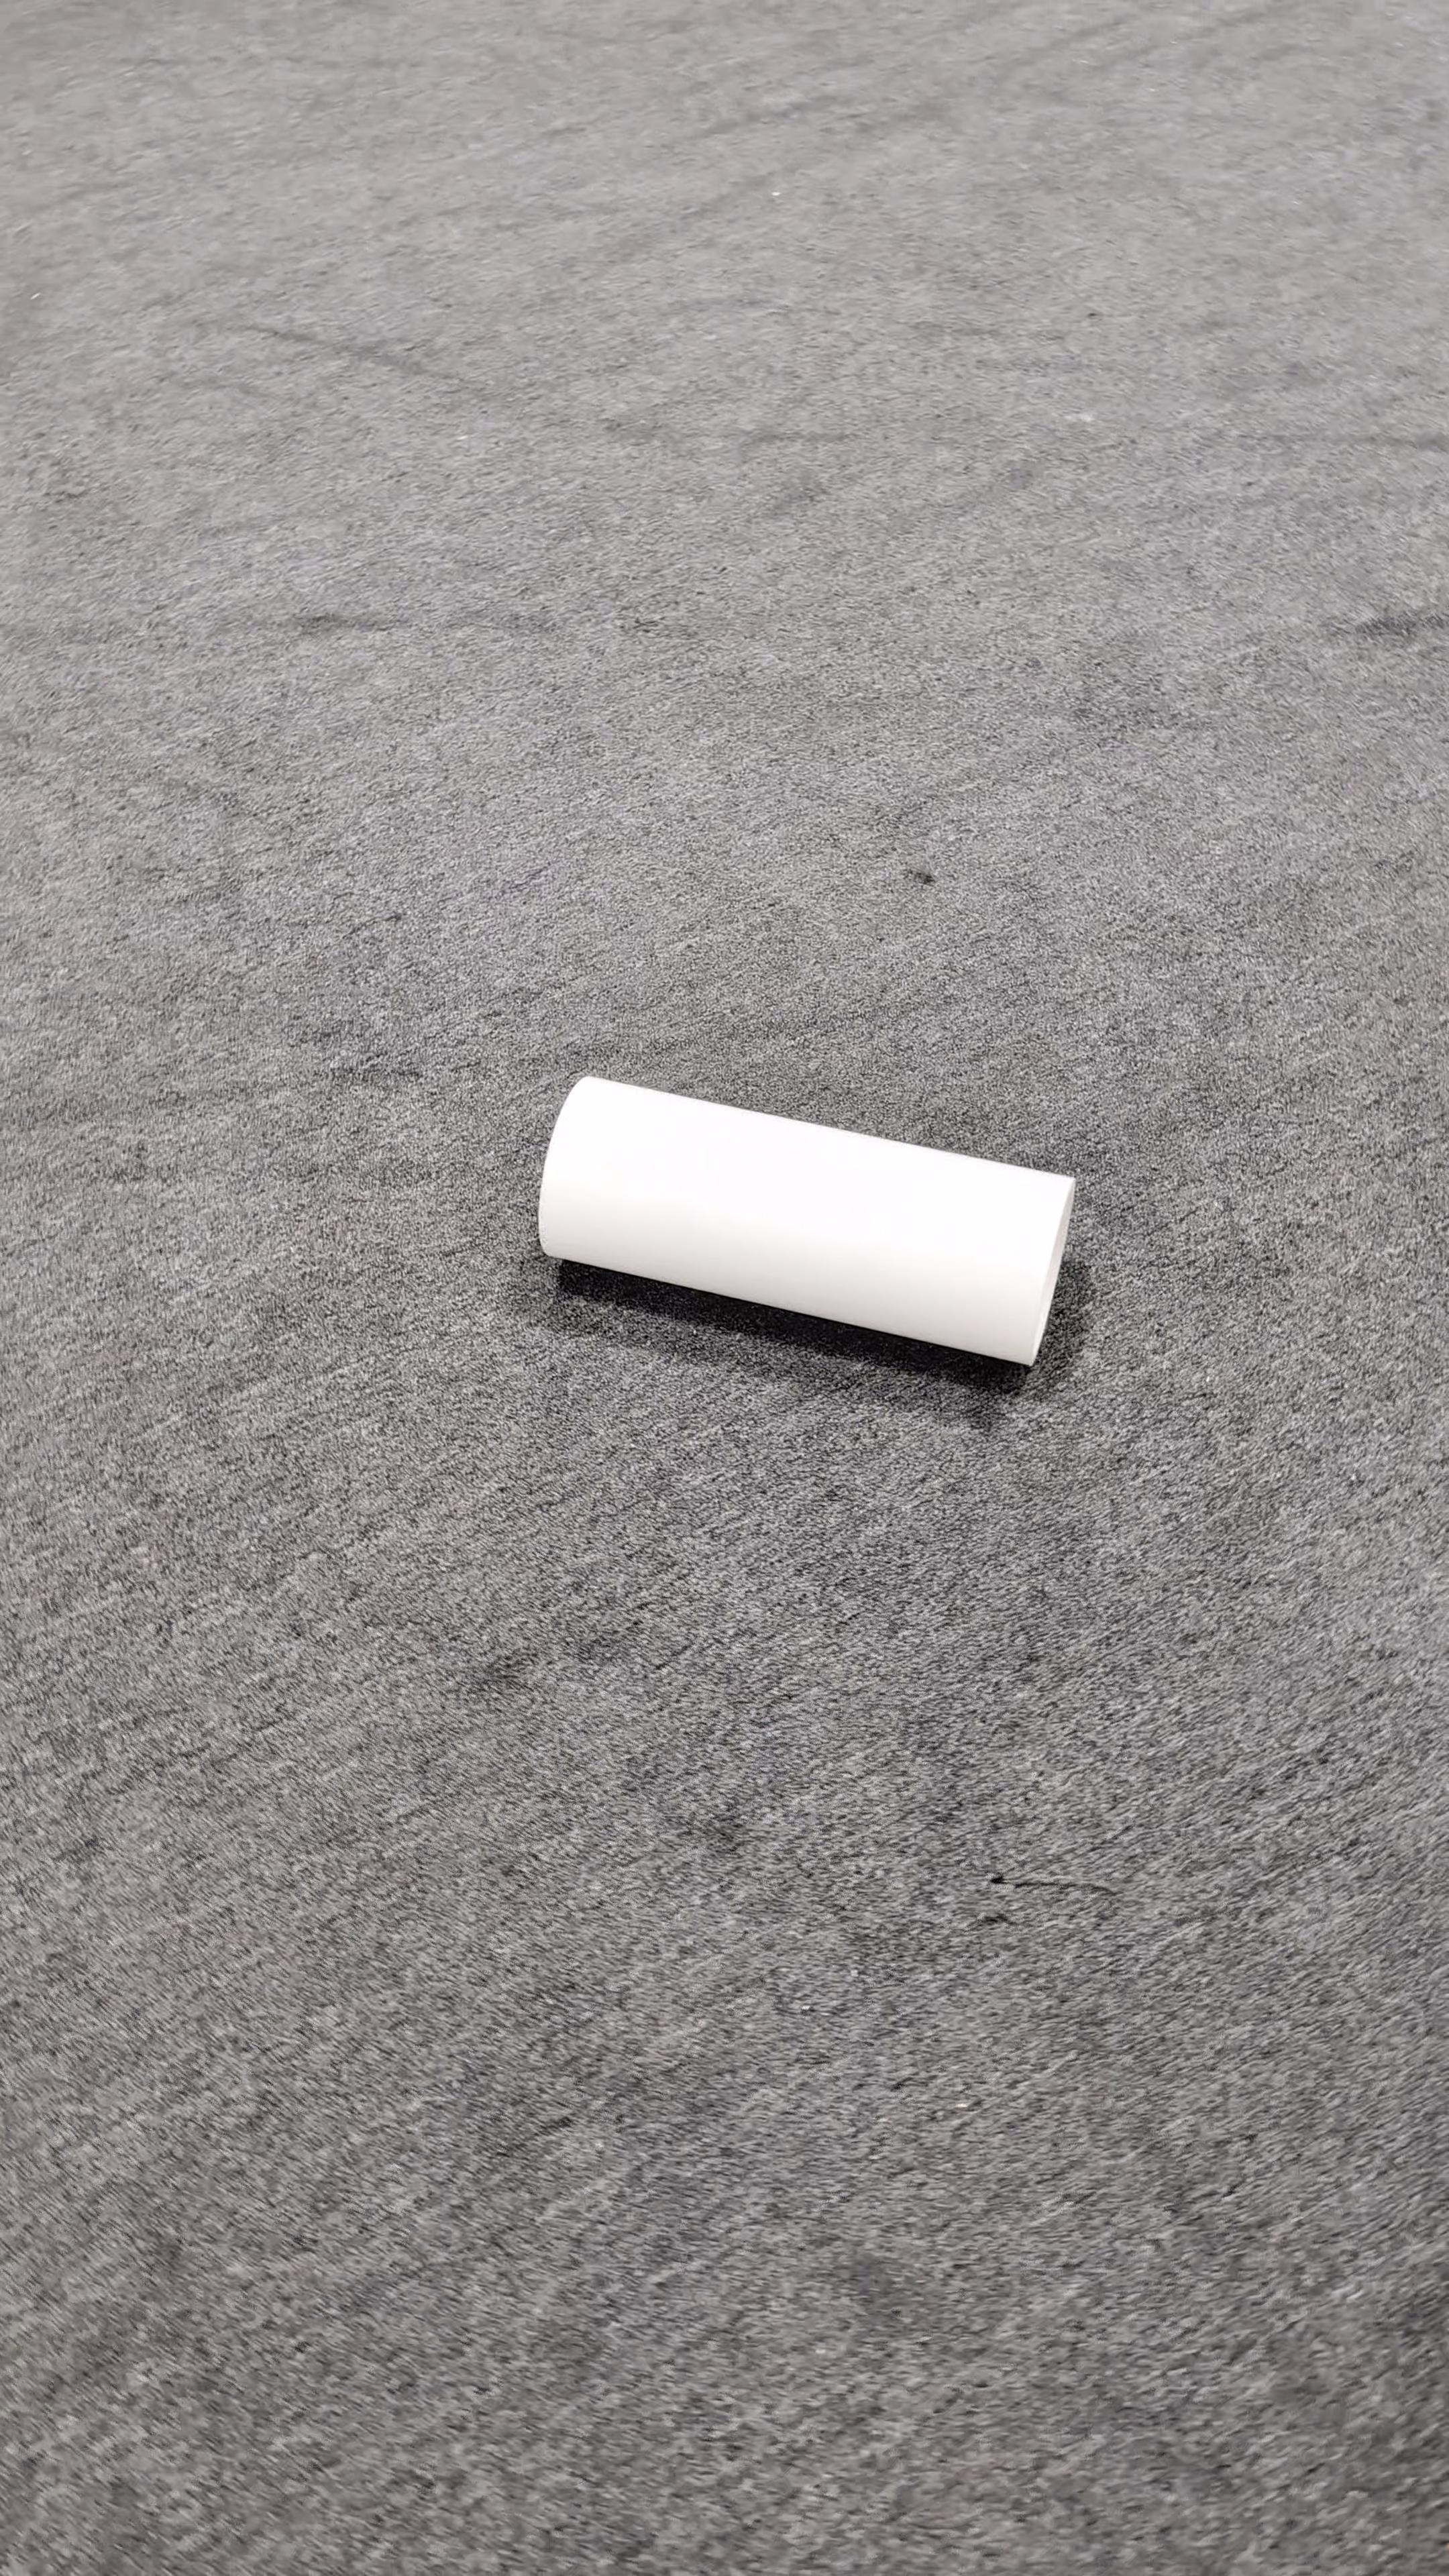coral: (538, 1070, 1079, 1368)
